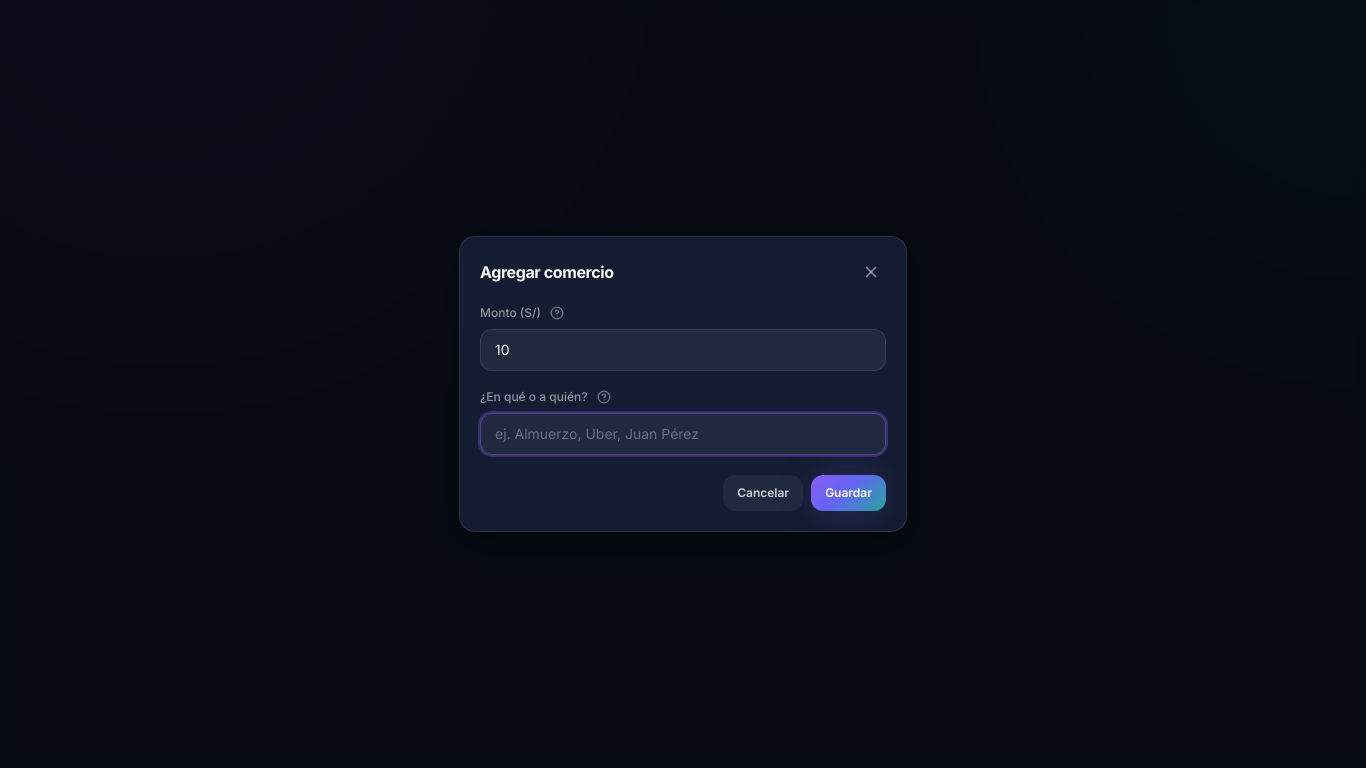
Test: CompleteExpenseModal › un 409 explica que el movimiento ya no se puede editar
Type "Almuerzo" into the field labelled "¿En qué o a quién?".
click(683, 434); type("Almuerzo")  # box [480, 413, 886, 455]
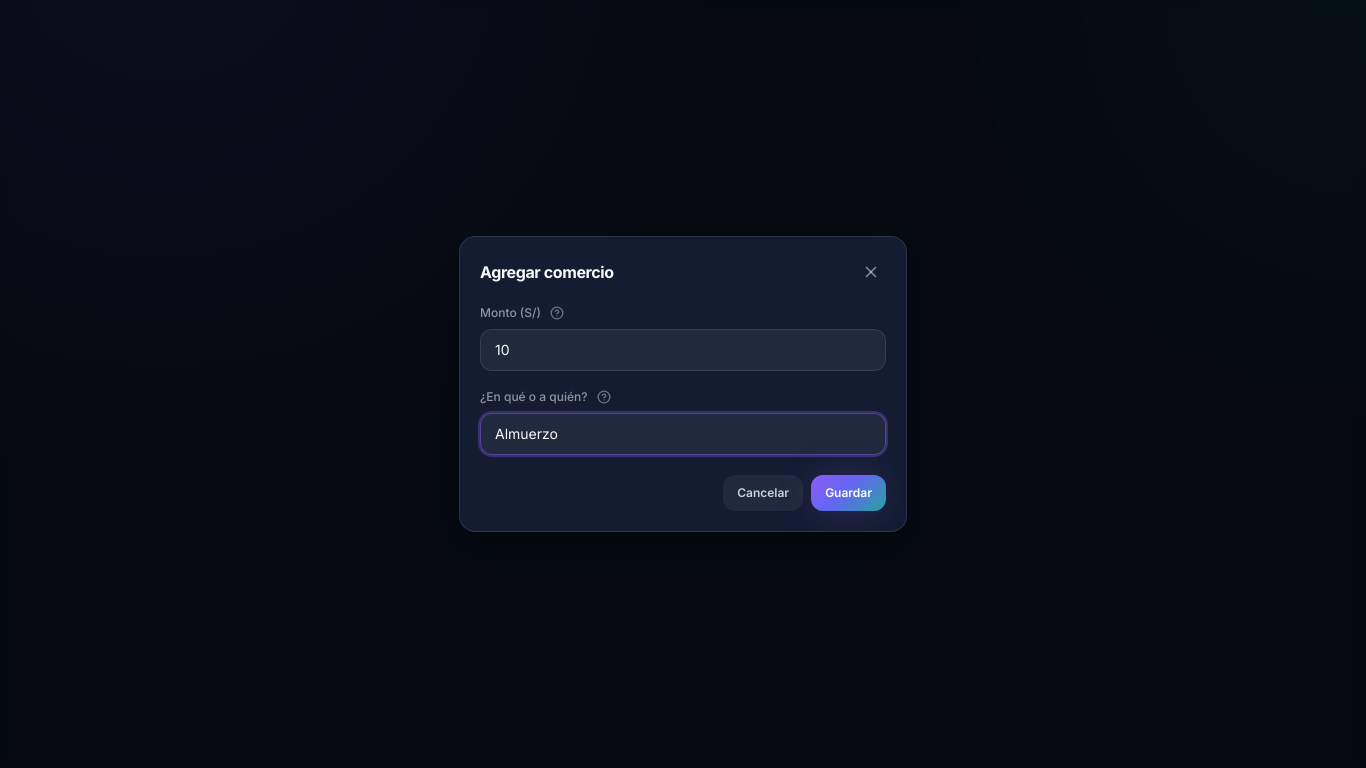
Click the button "Guardar".
click(849, 493)  # box [811, 475, 886, 511]
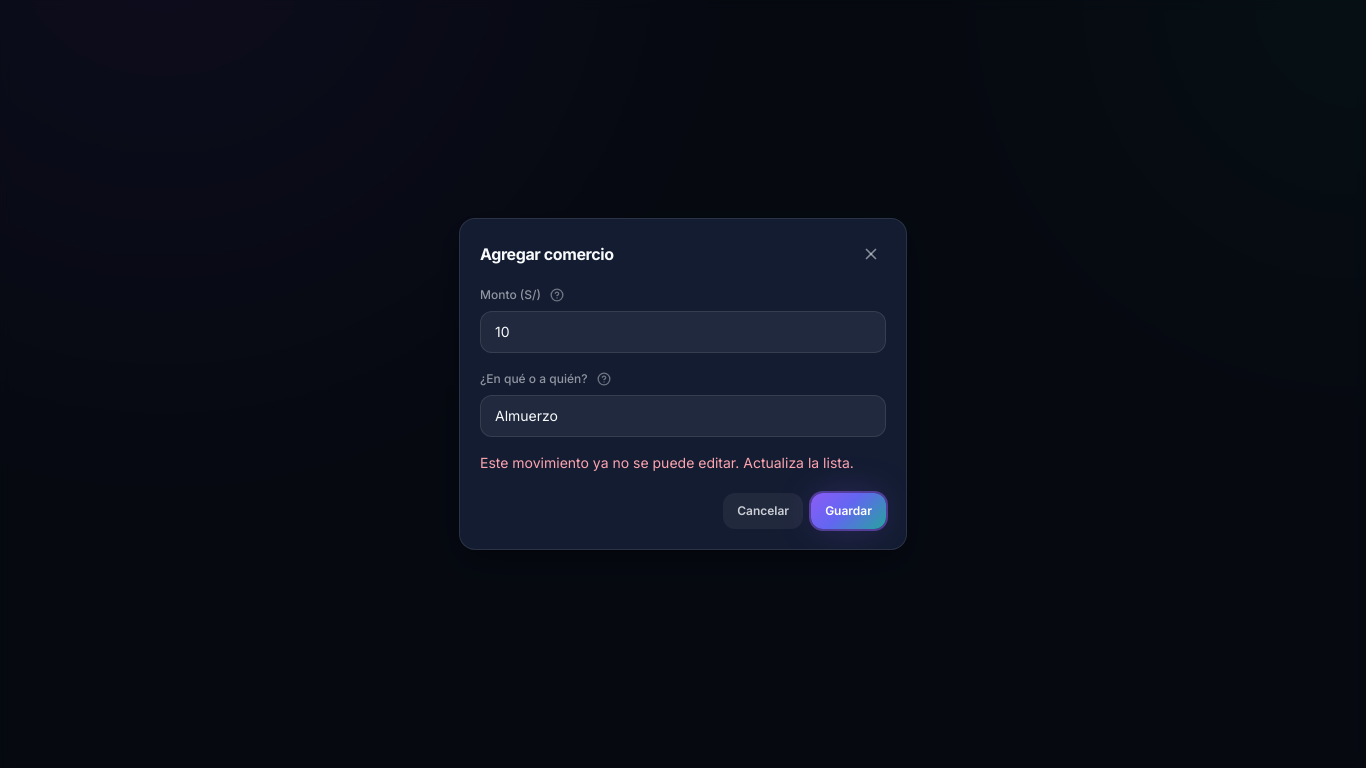
Expected: the message shows "ya no se puede editar", [480, 454, 854, 471]
